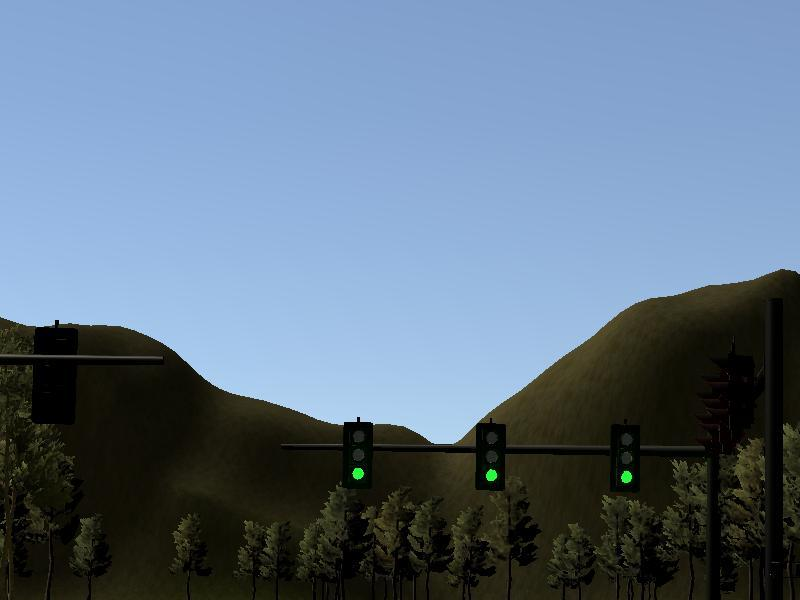Green: (610, 424, 640, 492), (344, 421, 372, 488), (478, 427, 504, 491)
